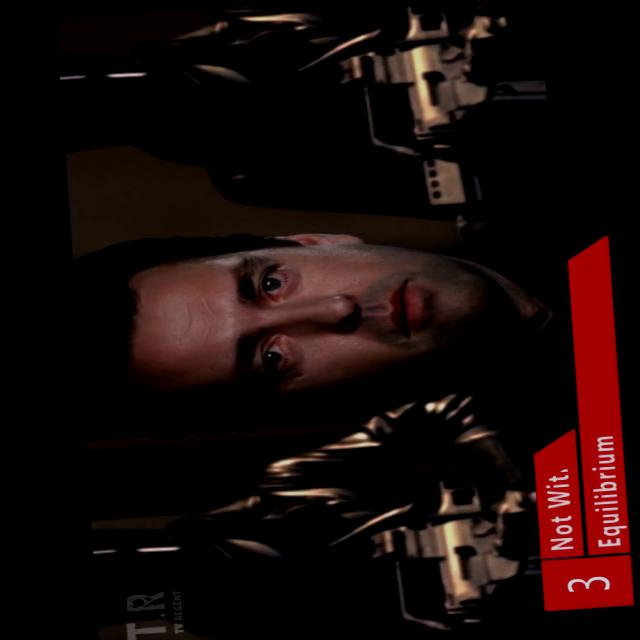long weapon: (328, 0, 570, 245), (348, 435, 596, 637)
